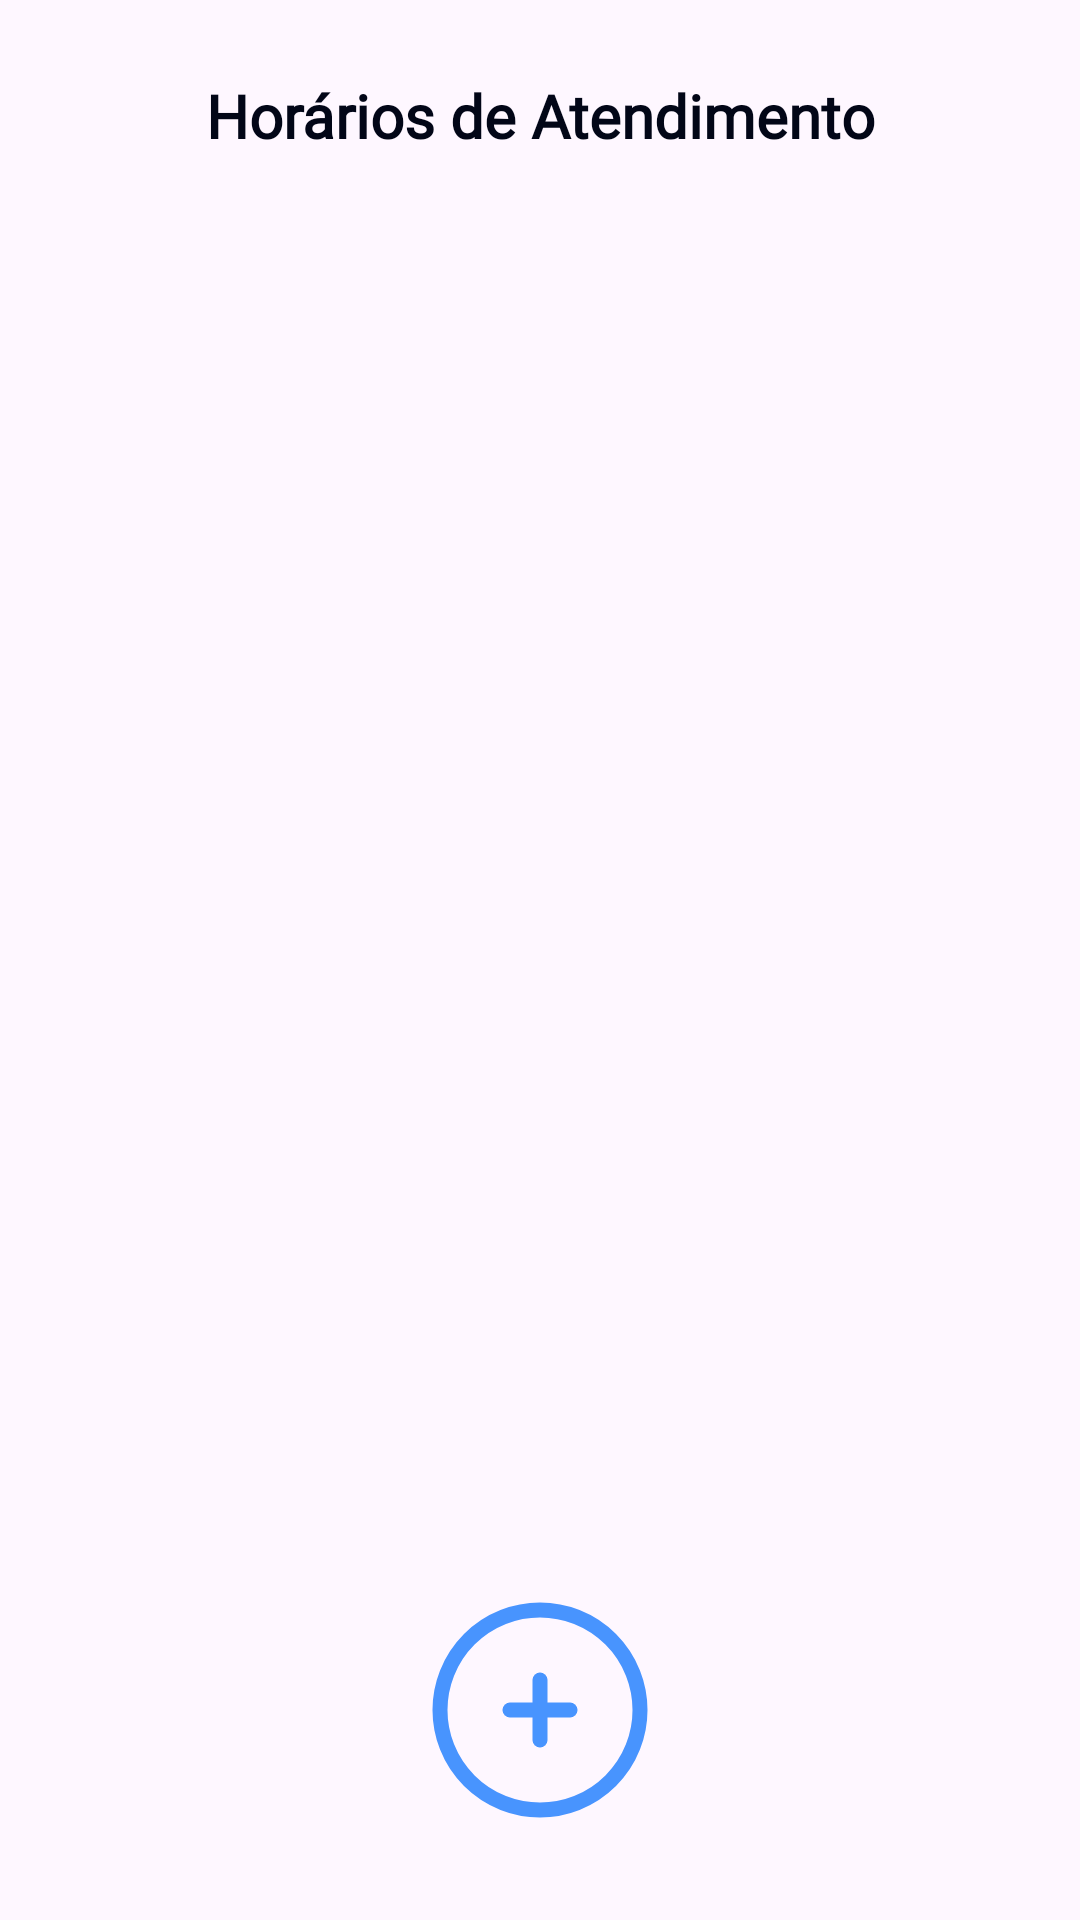

Named icons in this screenshot (1080 x 1920) and their bounding boxes, (x1, y1, x2, y2):
add: (432, 1602, 648, 1818)
